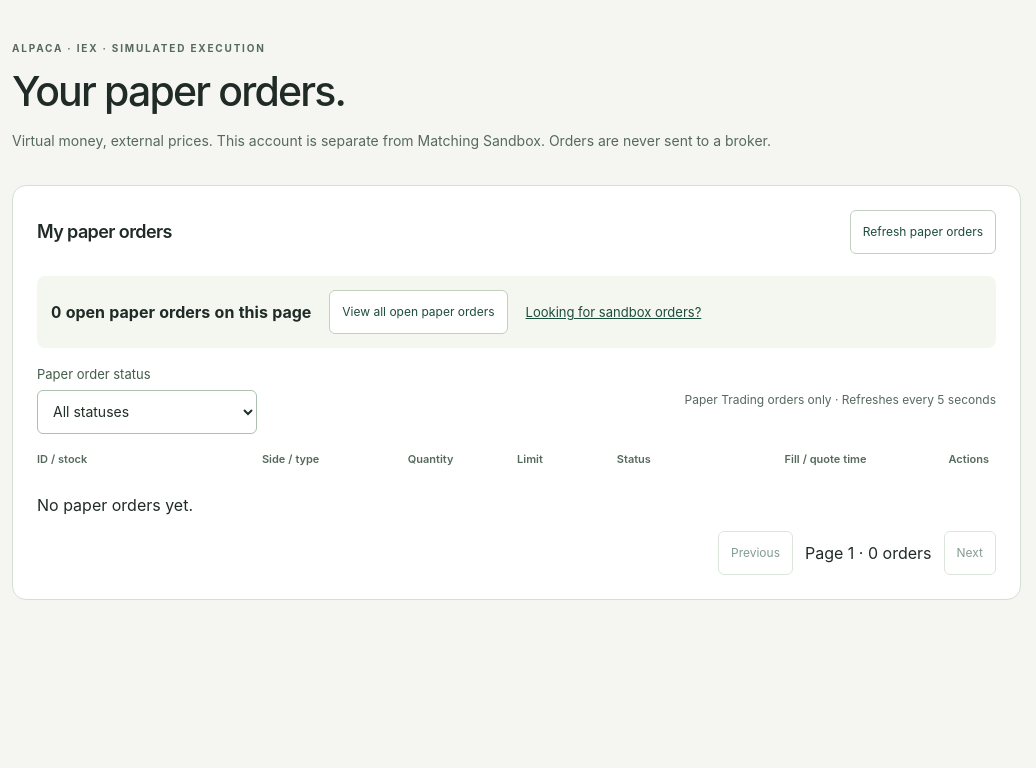
Test: filters OPEN orders on the server and resets pagination
The width and height of the screenshot is (1036, 768).
Expected: the text "No paper orders yet." is shown, top-left (37, 495), bottom-right (193, 515)
Select "OPEN · Waiting for a quote" in the dropdown labelled "Paper order status" at [147, 412], box top-left (37, 390), bottom-right (257, 434)
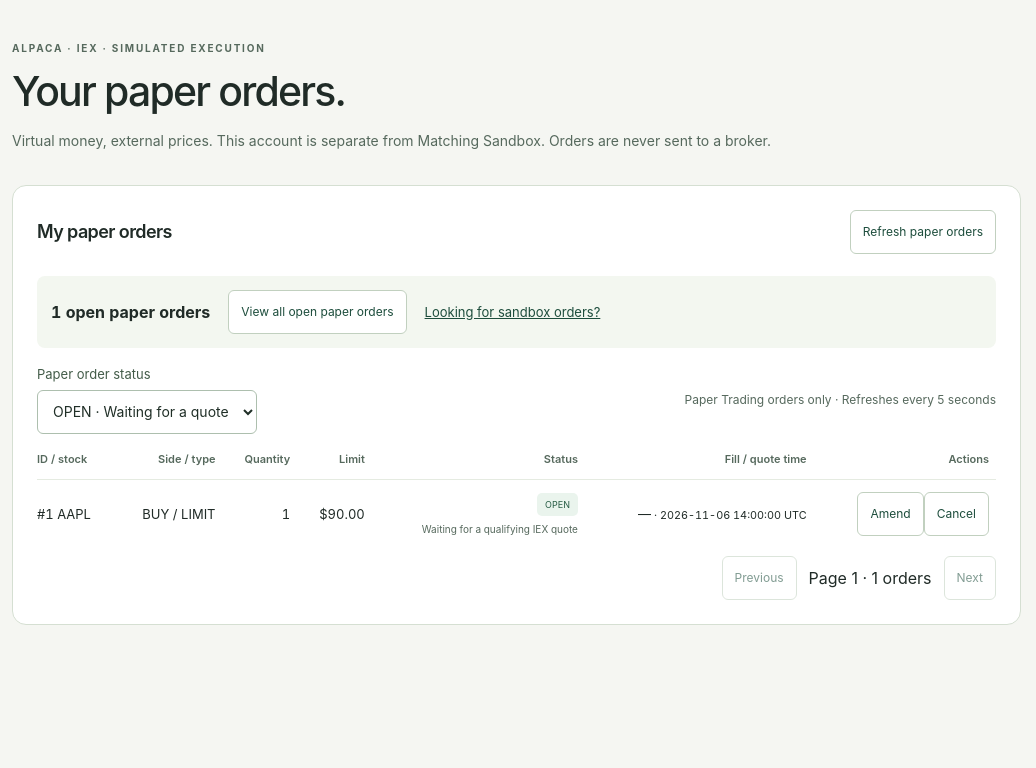
Now the text "Waiting for a qualifying IEX quote" is shown, box top-left (422, 523), bottom-right (578, 535)
